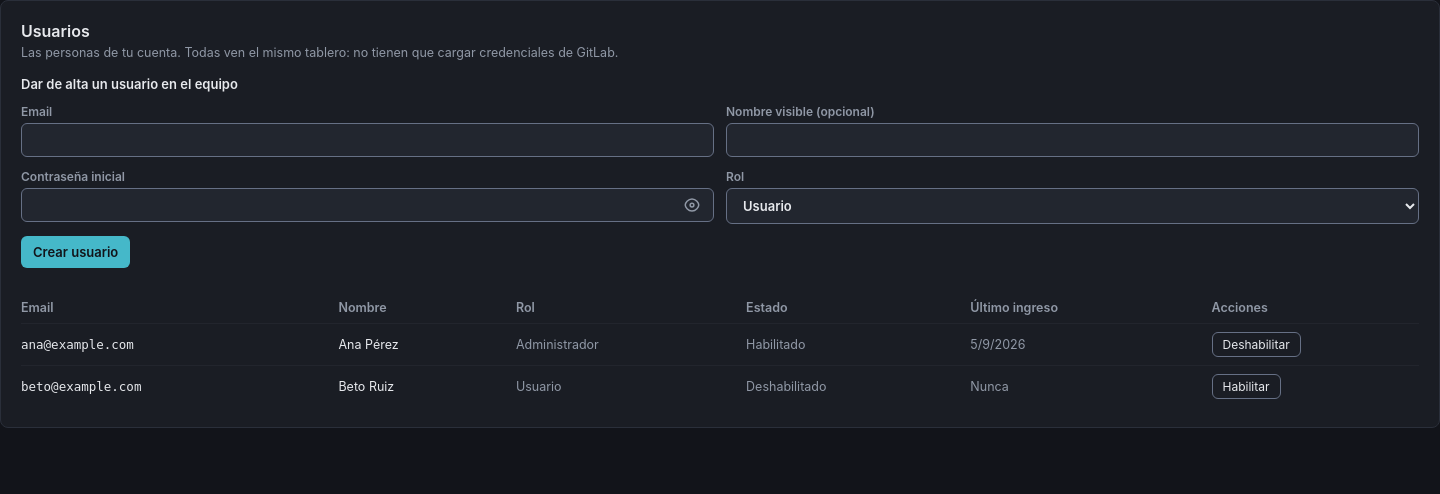
acciones por usuario › habilita a un usuario deshabilitado
Click the button "Habilitar" at [1246, 386], box [1212,374,1280,399]
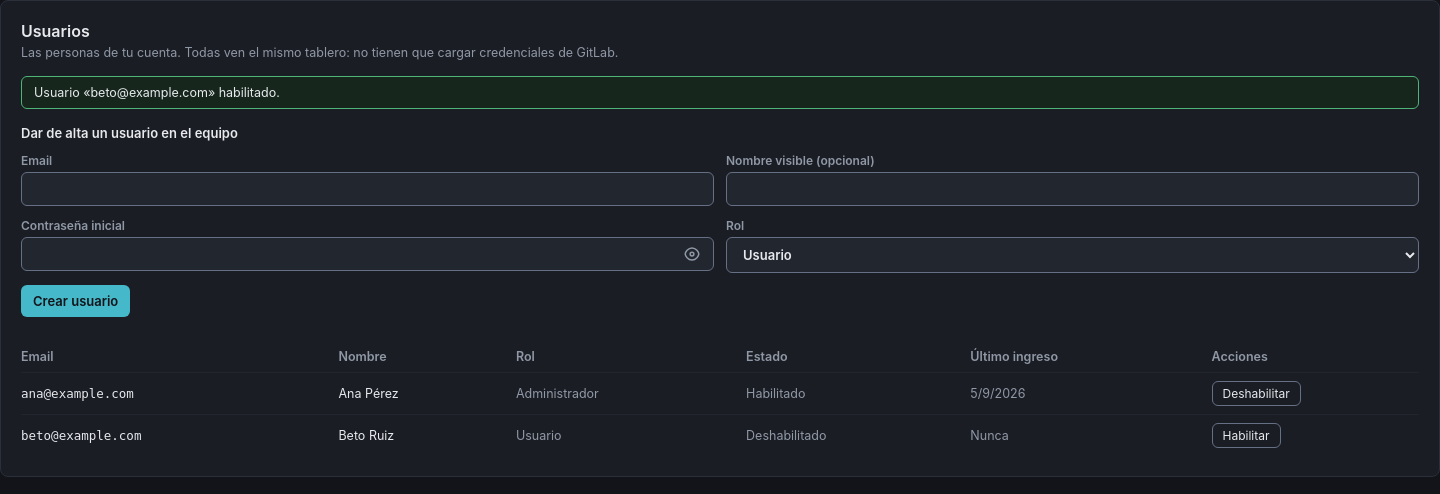
Expected: the message reads "Usuario «beto@example.com» habilitado.", [34,85,280,100]
